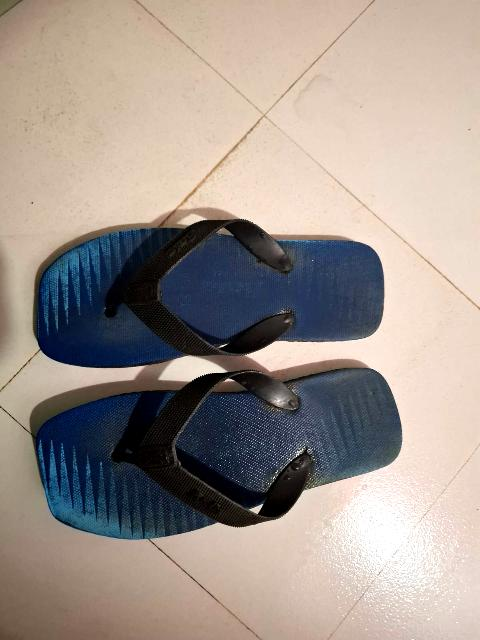sandal: (2, 322, 419, 571), (16, 205, 383, 366)
